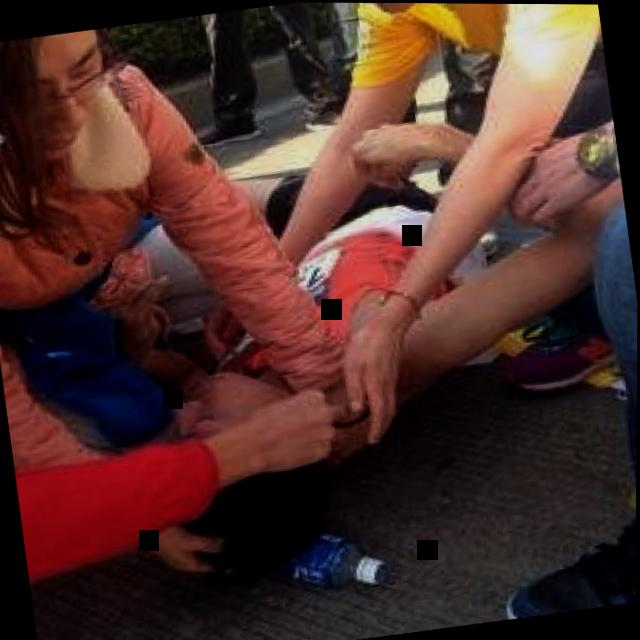Fall-Detected: (122, 102, 565, 595)
